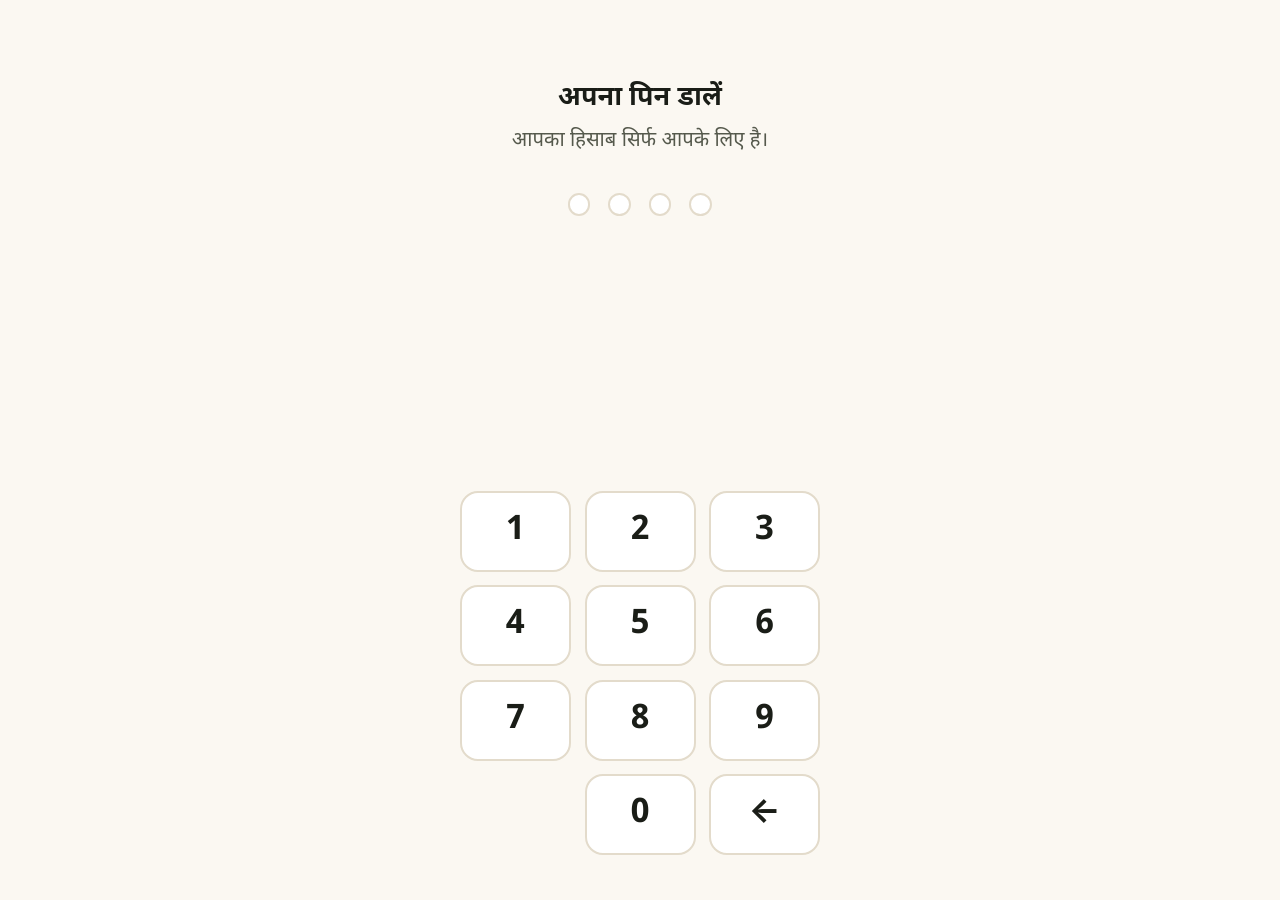
Test: offline › says so, and still lets the user work
Expected: the heading "अपना पिन डालें" is shown, [558,81,722,117]
Click the button "1" at (516, 531), box [460,490,571,572]
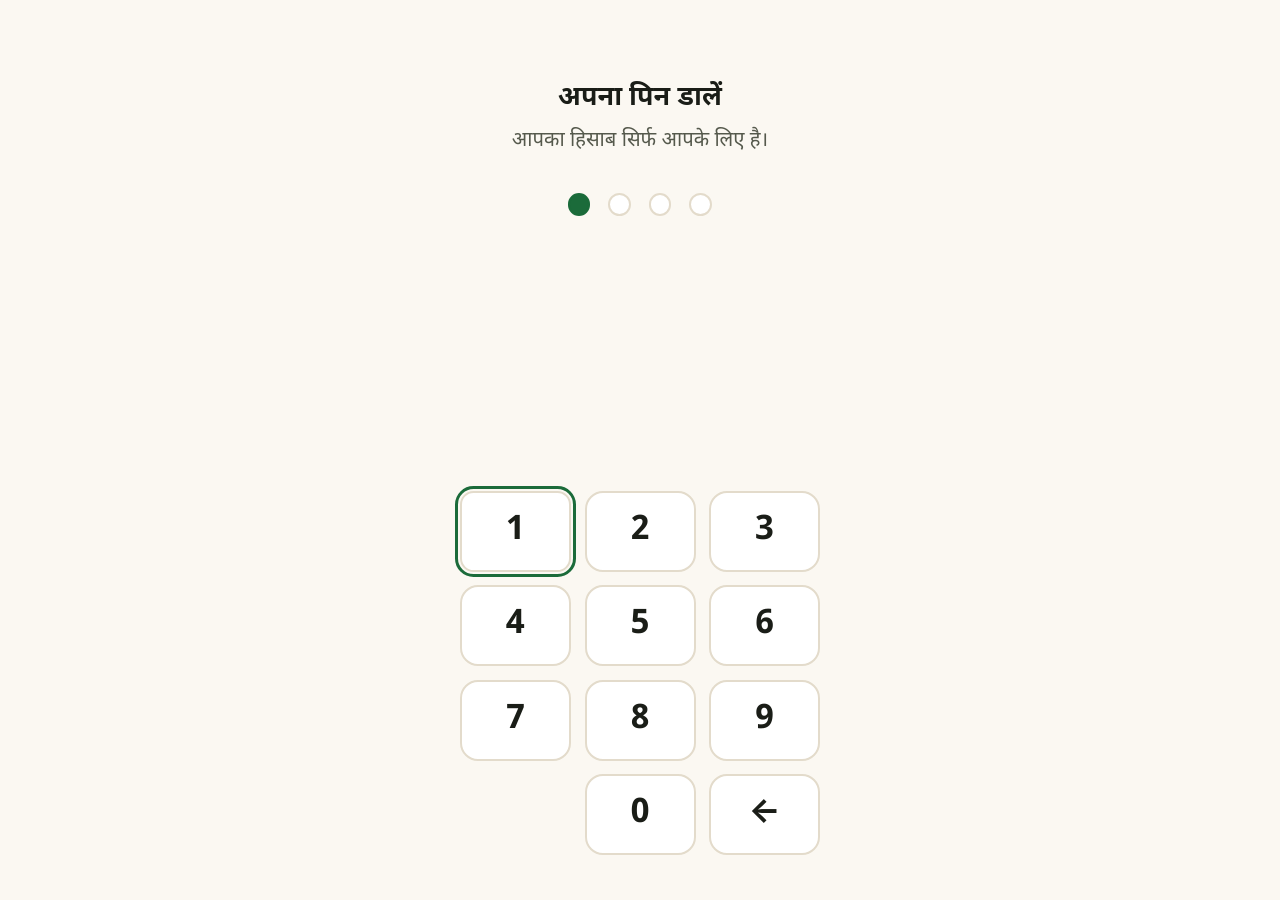
Click the button "2" at (640, 531), box [584,490,696,572]
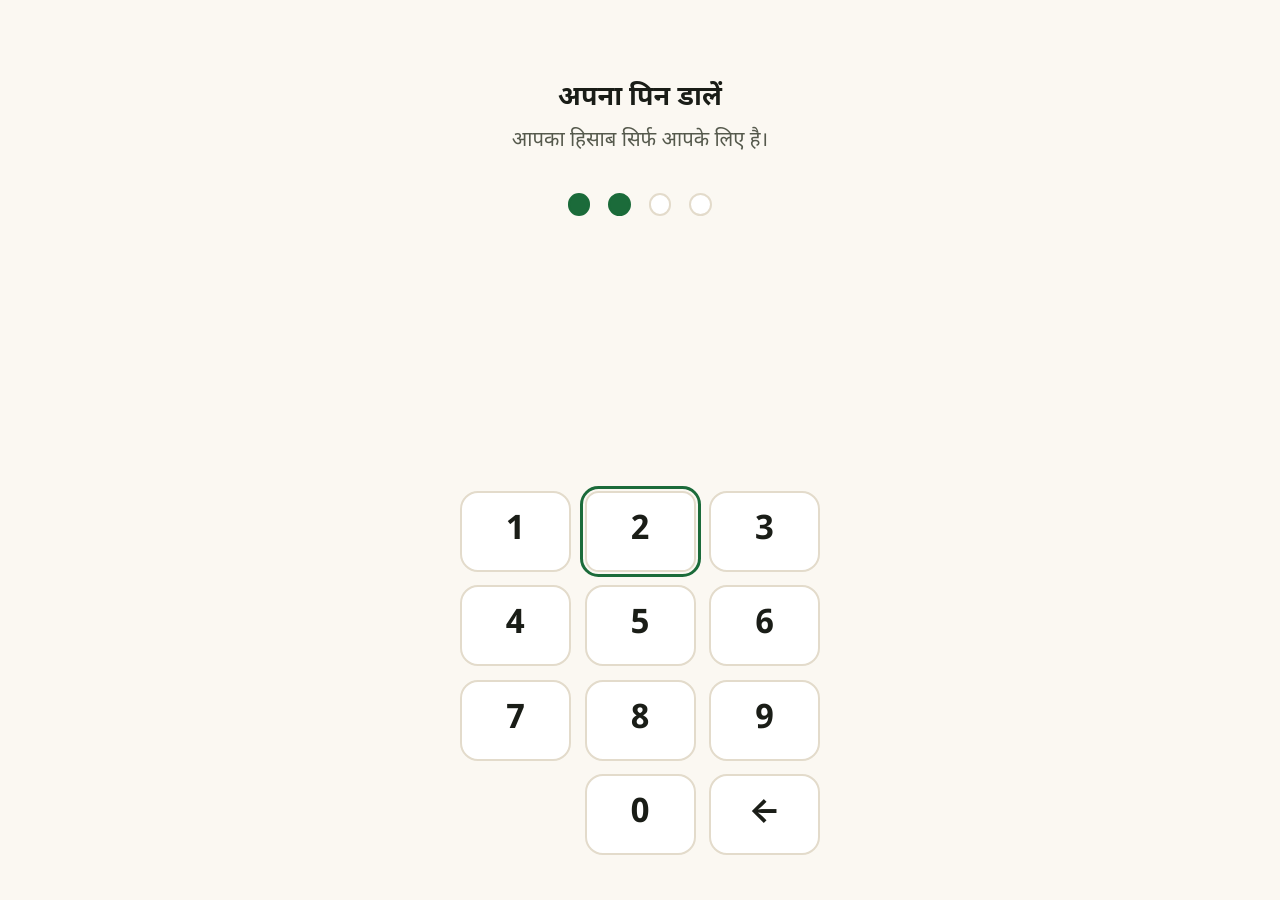
Click the button "3" at (764, 531), box [709,490,820,572]
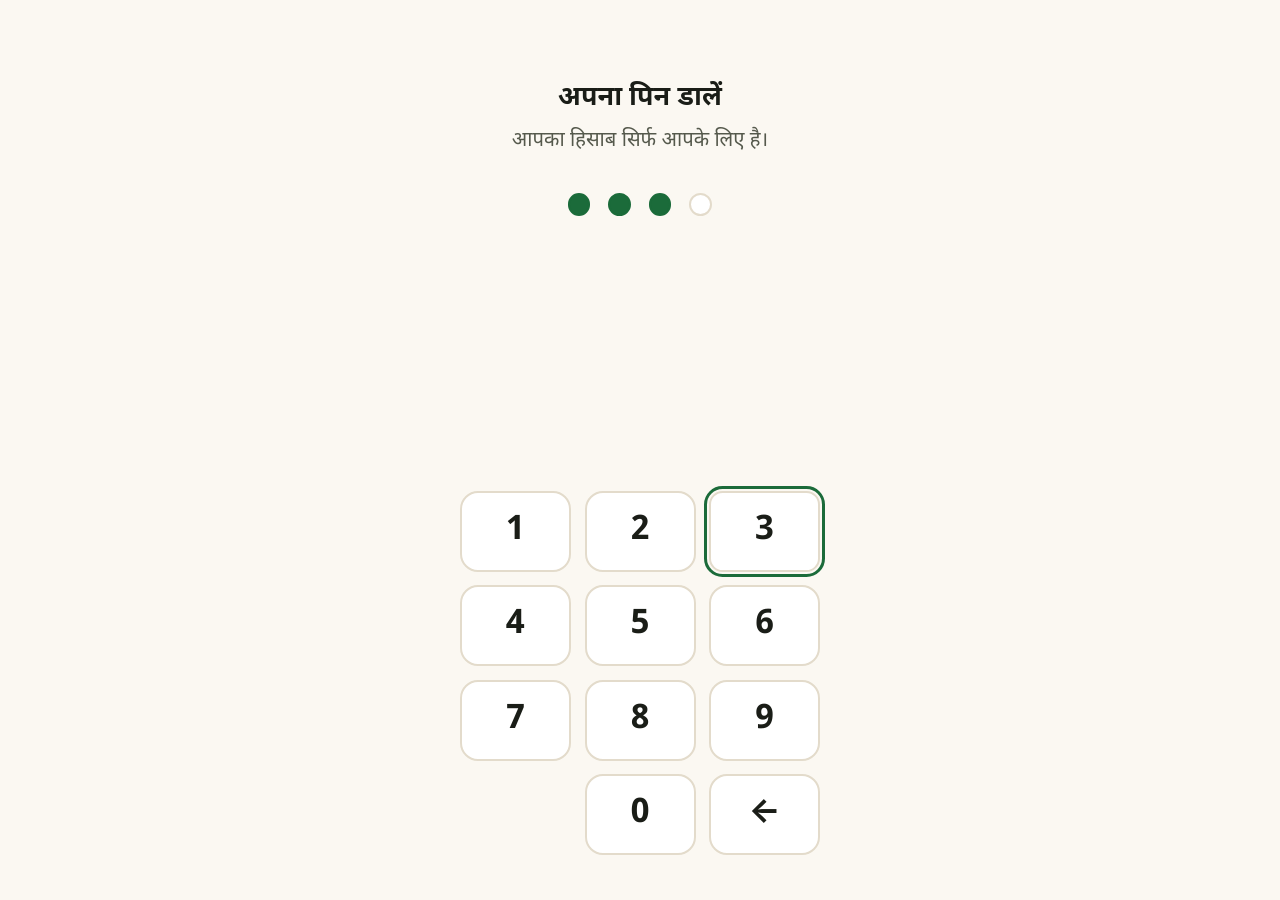
Click the button "4" at (516, 626), box [460,585,571,666]
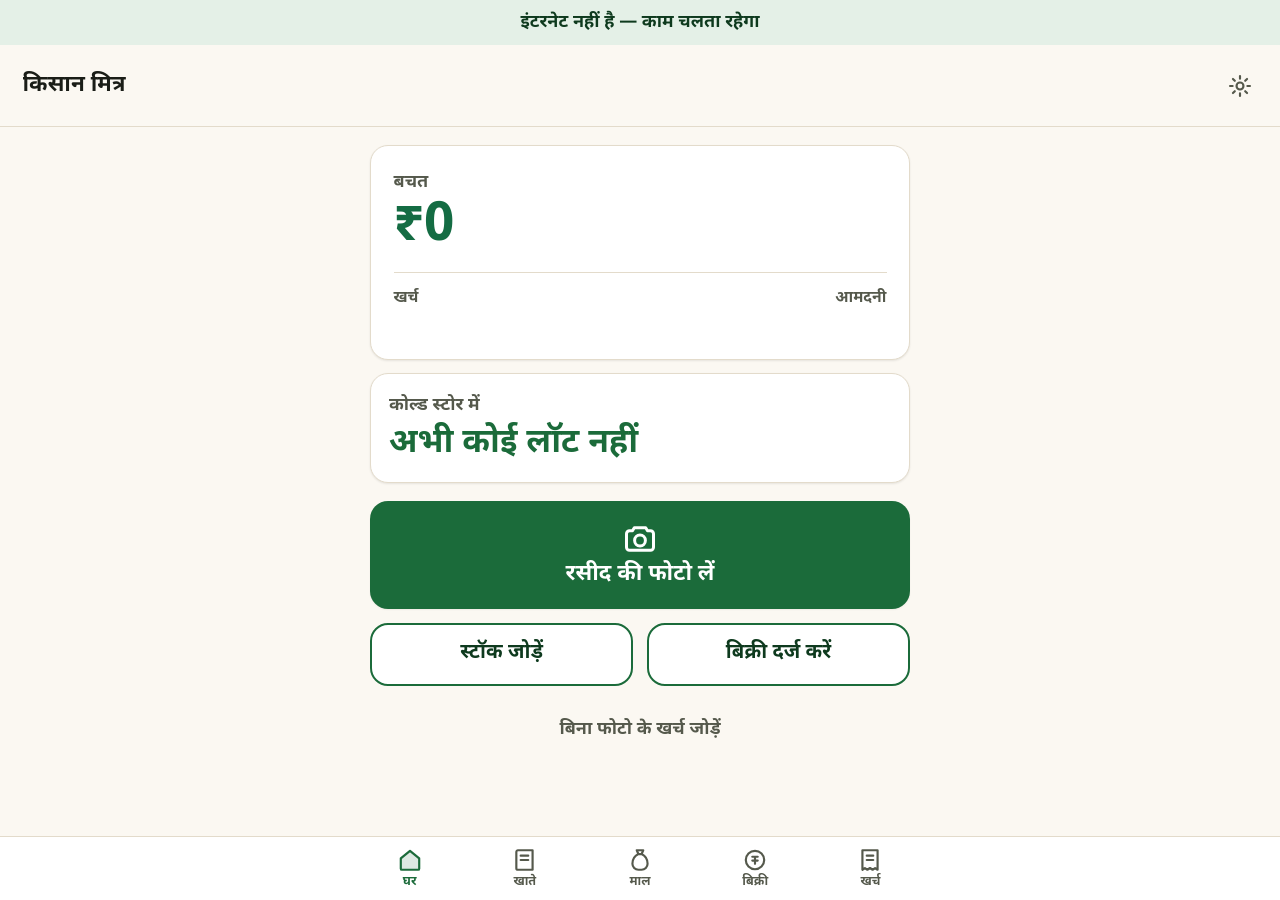
Expected: the button "बिना फोटो के खर्च जोड़ें" is shown
Expected: the text "इंटरनेट नहीं है — काम चलता रहेगा" is shown, [0,0,1279,45]
Click the button "बिना फोटो के खर्च जोड़ें" at (640, 730), box [370,699,910,762]
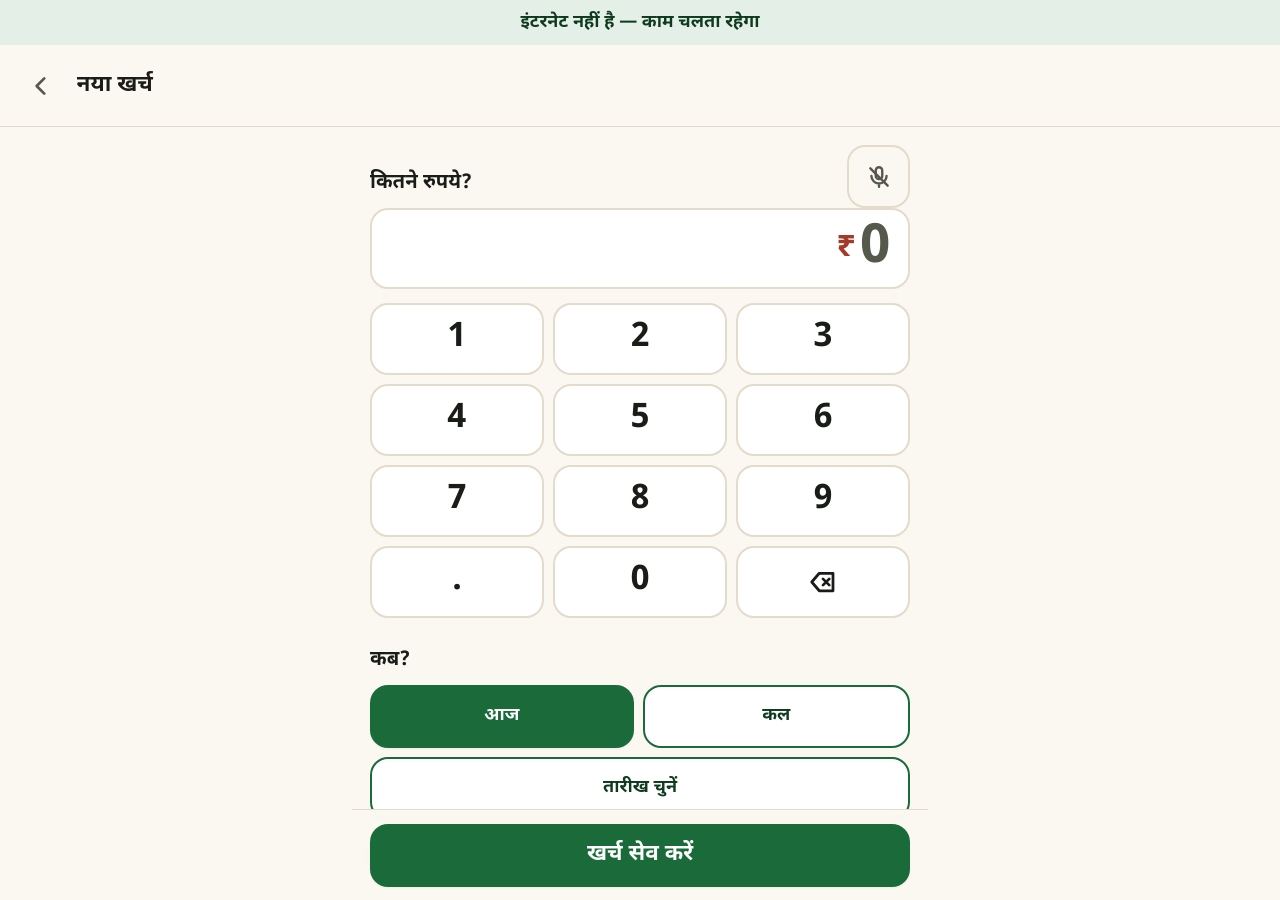
Expected: the heading "नया खर्च" is shown, [76,71,153,100]
